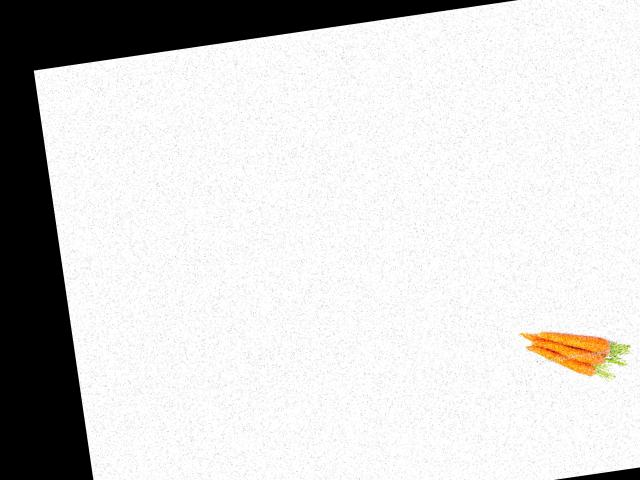carrot: (530, 315, 616, 368)
